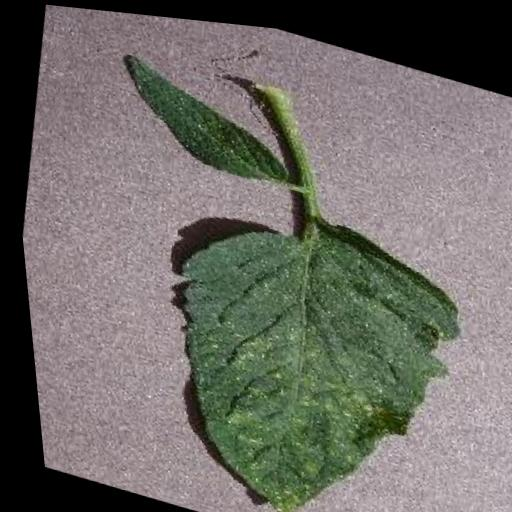Spider Mites: (122, 179, 485, 512)
